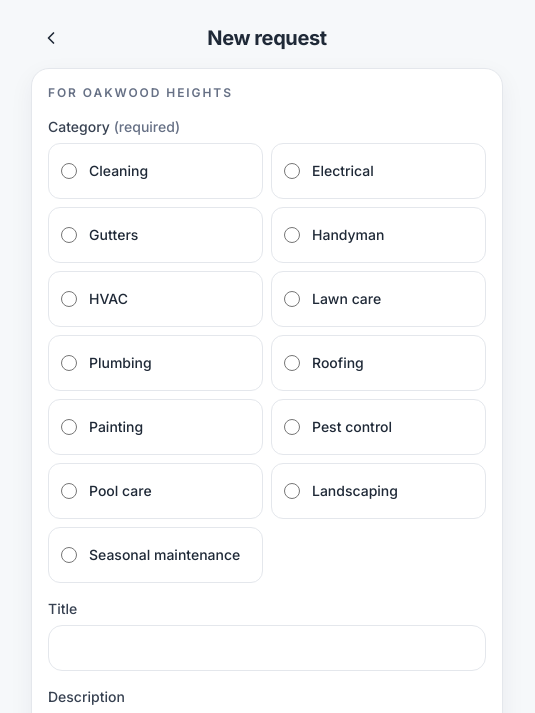
Test: required homeowner service category › posts canonical Pool care selection at the real page fetch boundary
Expected: the text "For Oakwood Heights" is shown, [48,85,233,100]
Step 1. Type " Clean the gutters " into the field labelled "Title" → (267, 648), box [48,625,486,671]
(page scrolled)
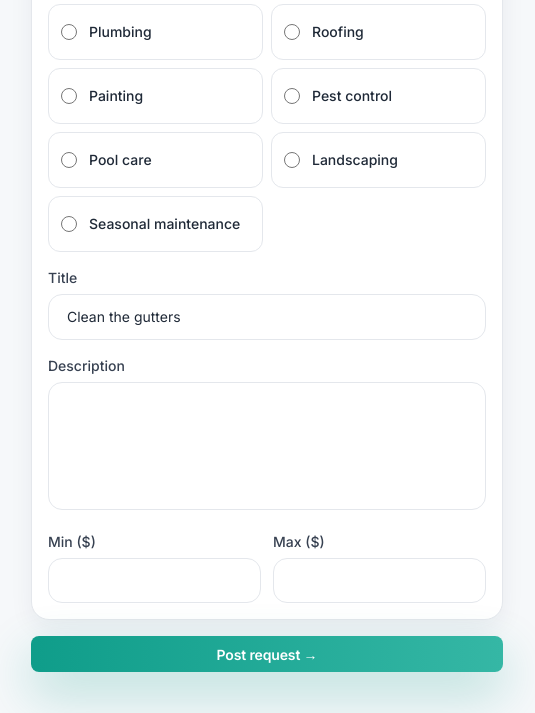
Step 2. Type " Clear leaves from the gutters. " into the text box labelled "Description" → (267, 446), box [48,382,486,510]
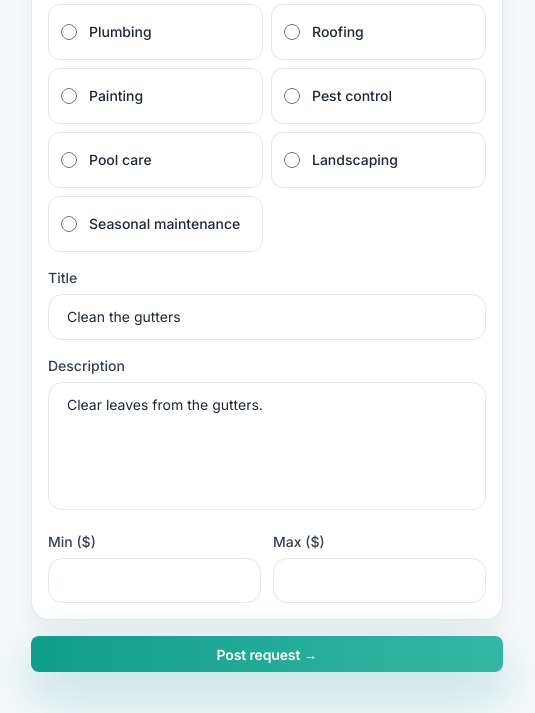
Step 3. Type "100" into the number field labelled "Min ($)" → (154, 580), box [48,558,261,603]
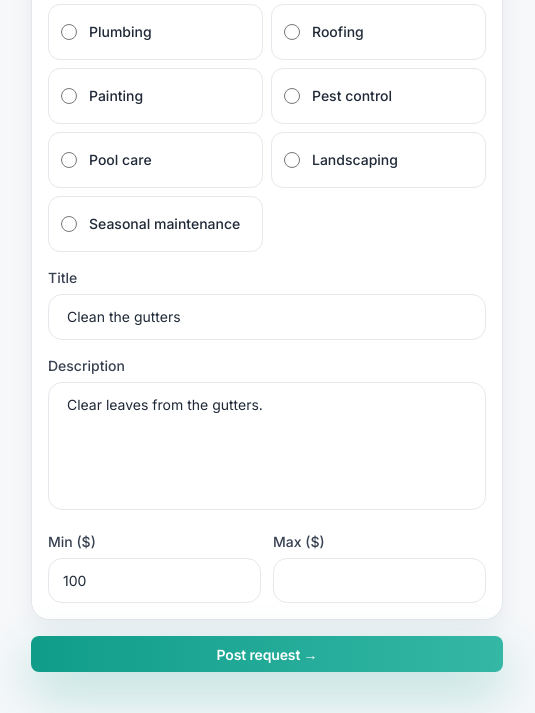
Step 4. Type "300" into the number field labelled "Max ($)" → (380, 580), box [273,558,486,603]
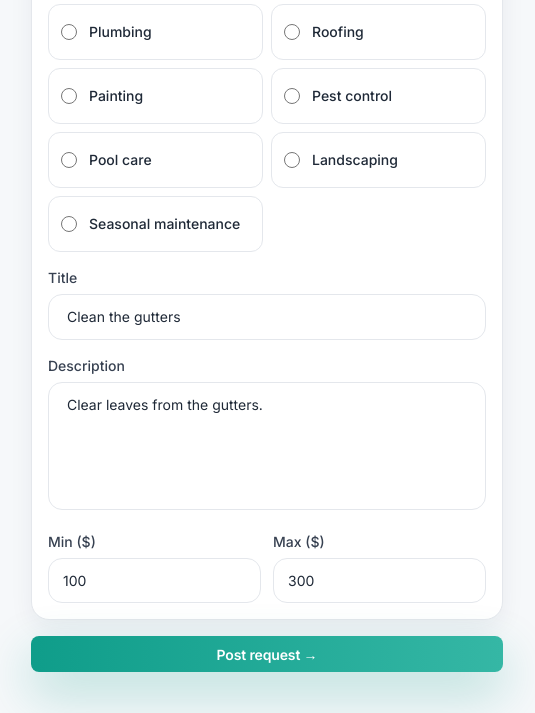
Step 5. Click the radio button labelled "Pool care" → (69, 160), box [61,152,77,168]
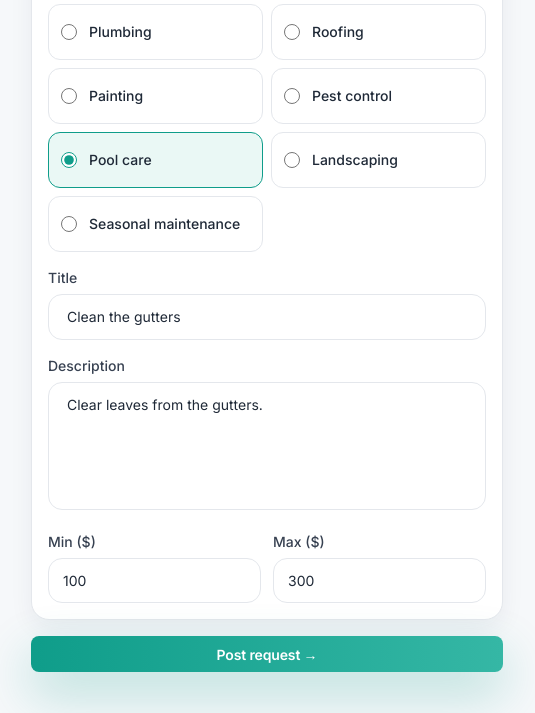
Step 6. Click the button "Post request →" → (267, 654), box [31,636,503,672]
(page scrolled)
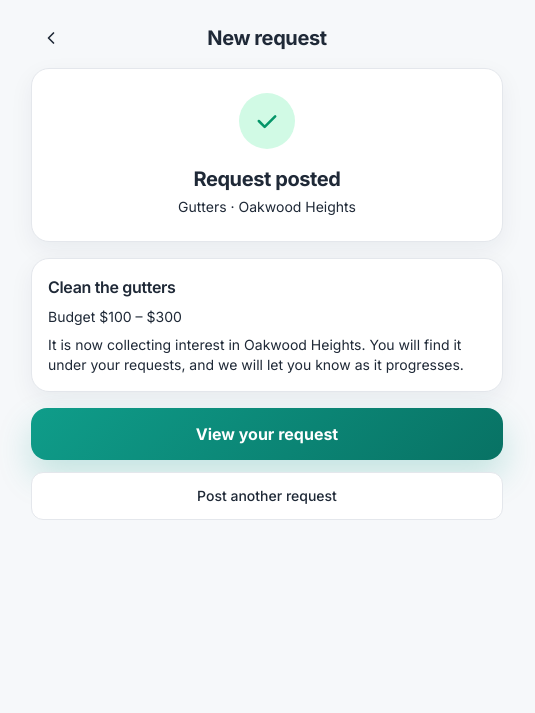
Now the message reads "Request posted", box [193,167,341,191]
